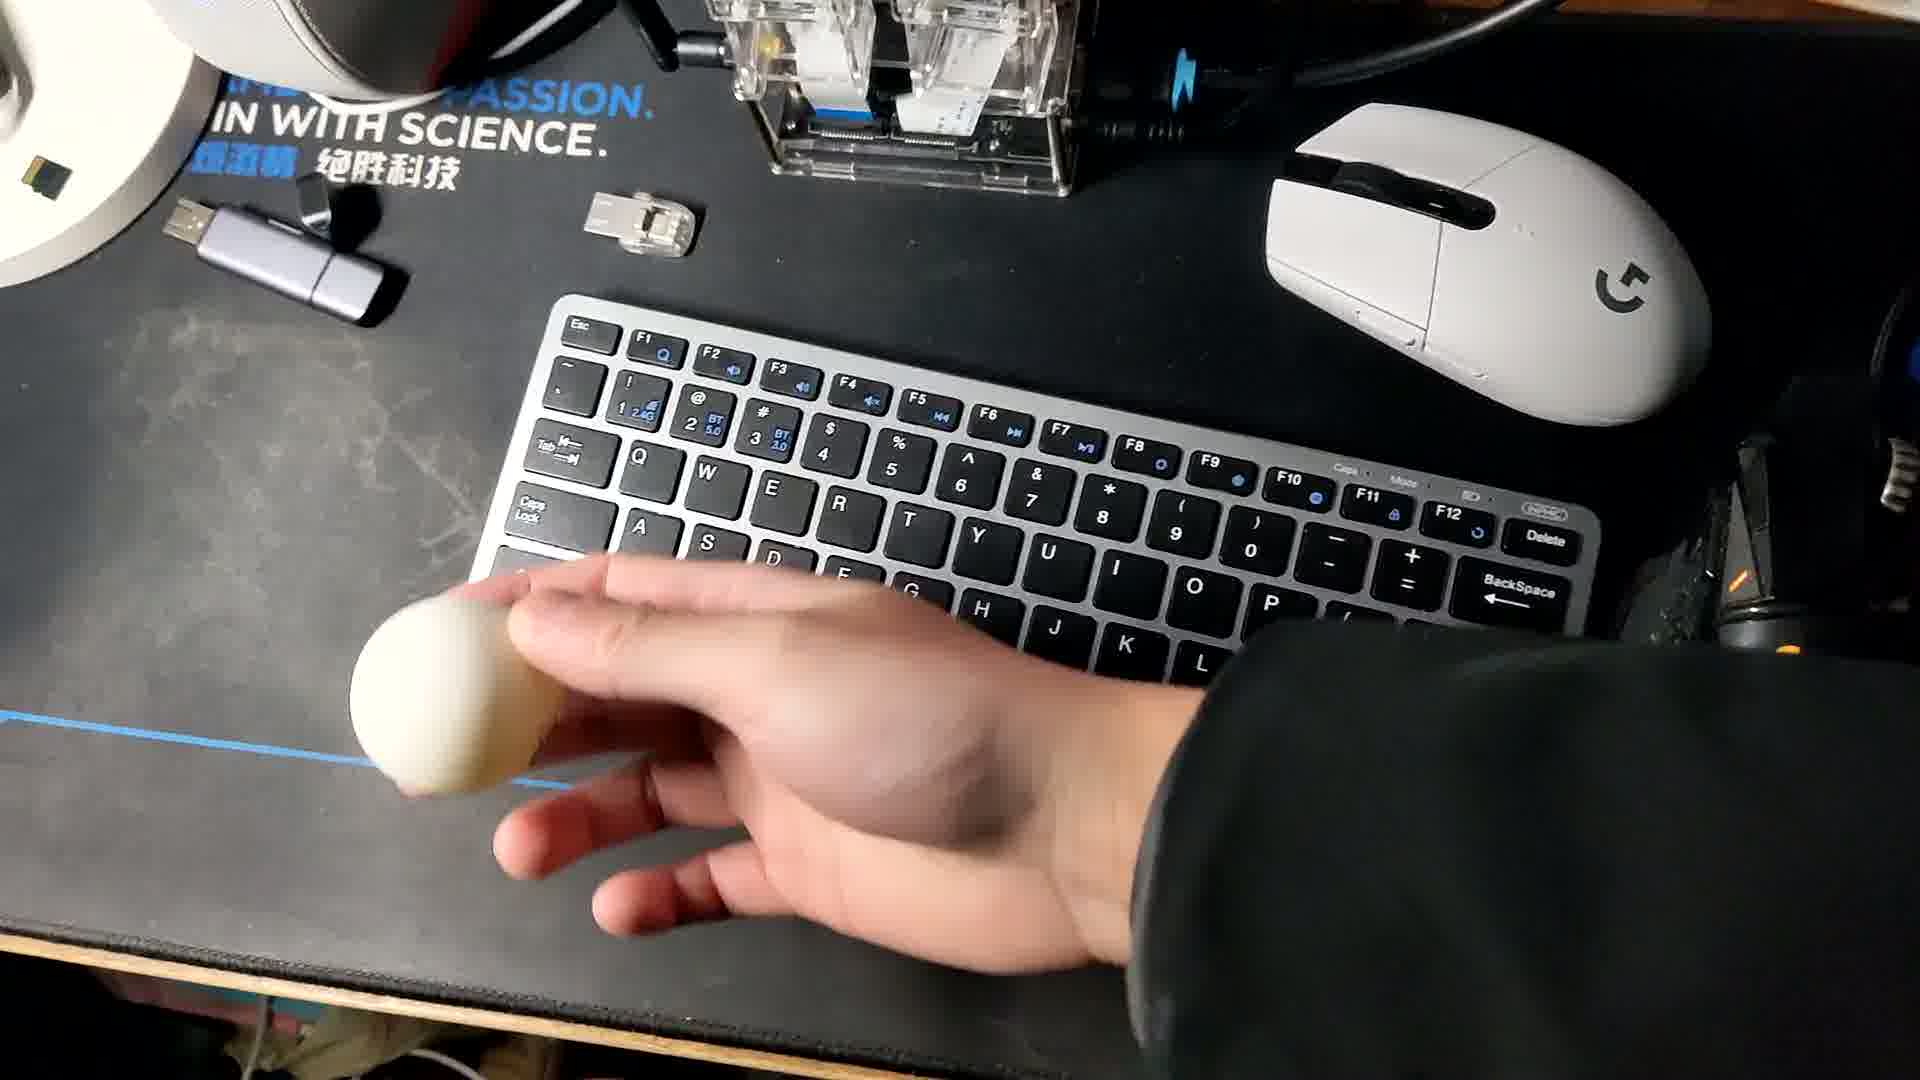Ball: (347, 600, 553, 796)
